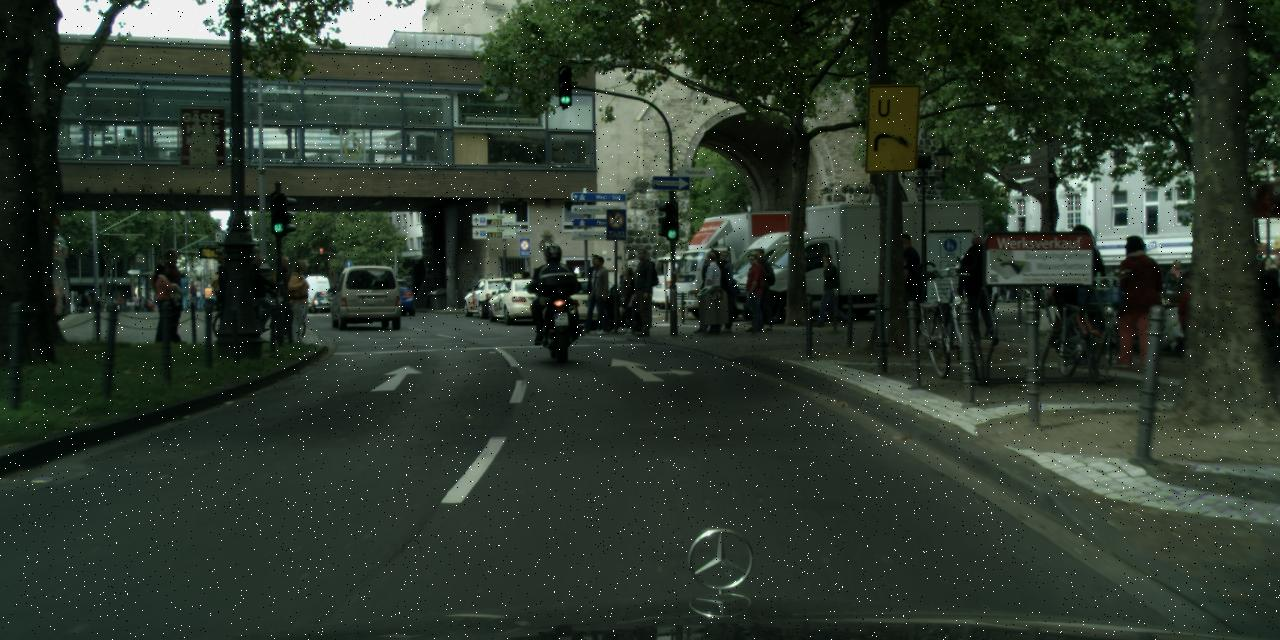ped: (1110, 234, 1186, 369), (153, 246, 220, 315), (958, 235, 1001, 341), (885, 234, 927, 336), (534, 243, 574, 343), (624, 249, 660, 335), (282, 260, 317, 343), (743, 248, 776, 328), (694, 251, 726, 331), (241, 254, 273, 334), (585, 256, 616, 332), (739, 254, 770, 330), (580, 254, 610, 330), (814, 252, 844, 326), (1070, 224, 1108, 277), (711, 251, 739, 320), (1162, 258, 1190, 326), (616, 266, 640, 326), (68, 290, 90, 316)
